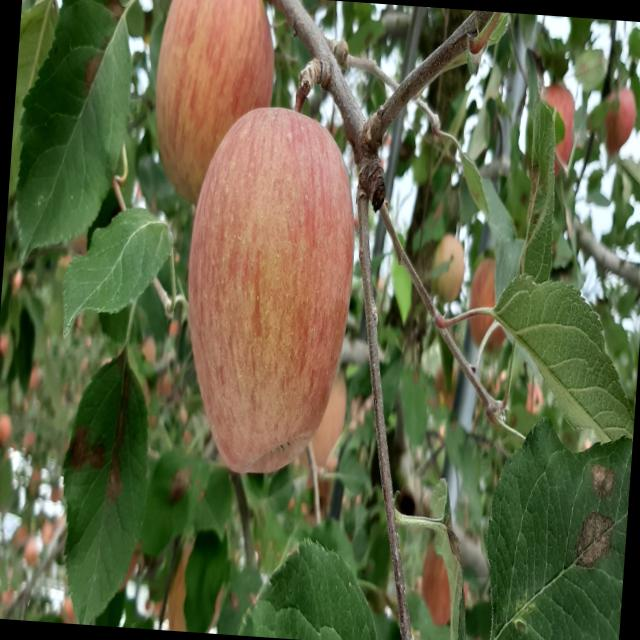fresh: (170, 89, 370, 492)
